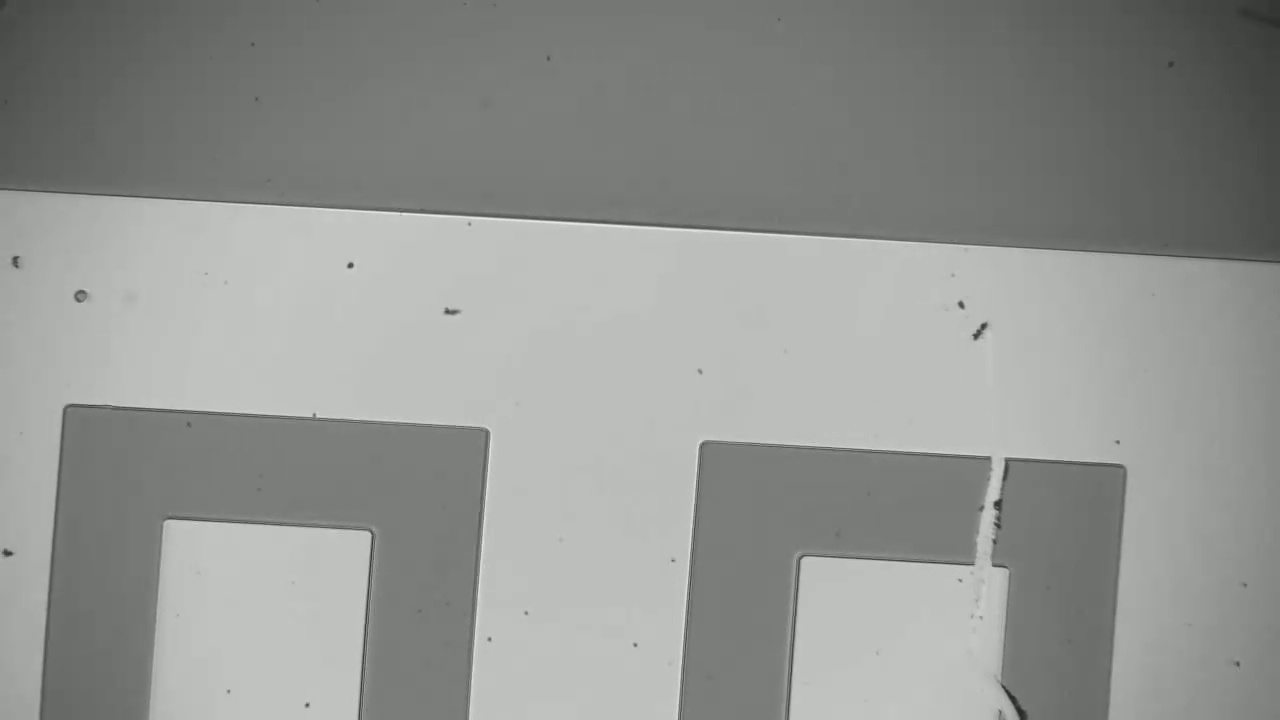Short_circuit: (941, 438, 1020, 587)
